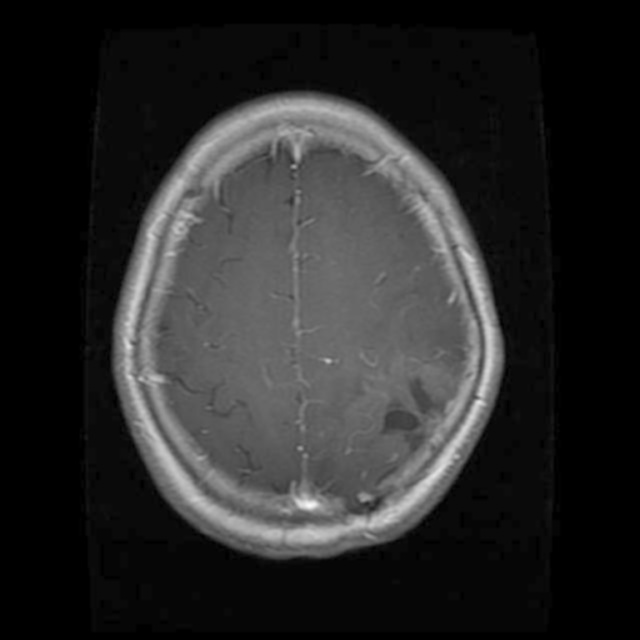pituitary tumor: (374, 371, 448, 451)
